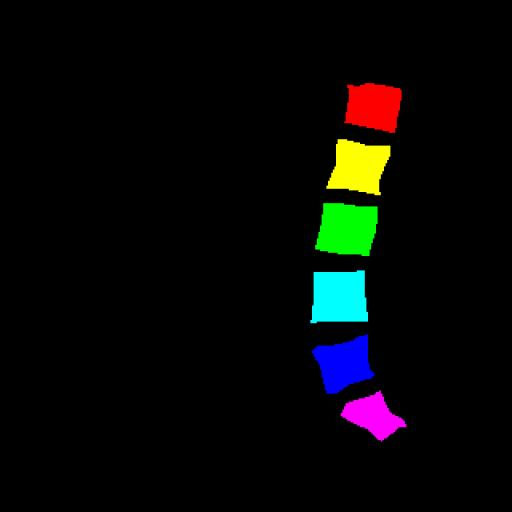L1: (345, 83, 402, 133)
L2: (326, 139, 390, 194)
L3: (315, 203, 378, 256)
L4: (311, 270, 368, 322)
L5: (312, 335, 374, 394)
S1: (341, 391, 406, 440)
